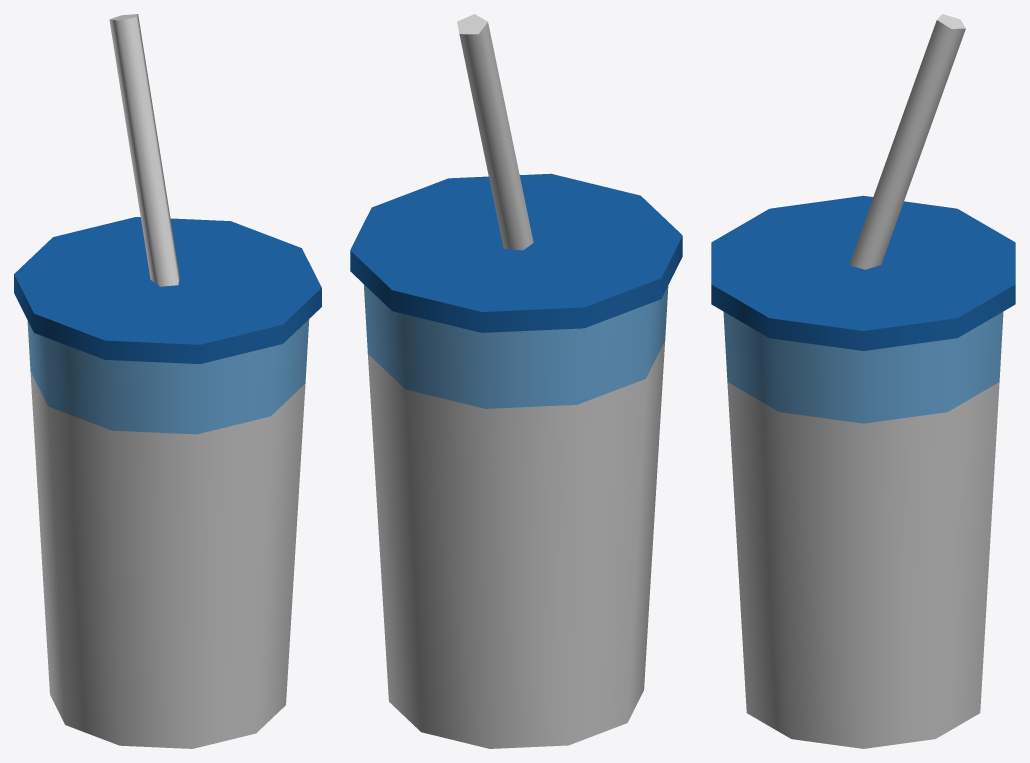
File: watercup.FBX
3 renders of one model, left to right at view 1: azimuth 30°, elevation 25°; view 2: azimuth 150°, elevation 25°; view 3: azimuth 270°, elevation 25°, orthographic. The views are drawn at different scales.
Visible parts, largest first — view 1: Cylinder002; view 2: Cylinder002; view 3: Cylinder002.
Boxes of the visible parts, <box> form: Cylinder002: <box>14,14,321,748</box>; Cylinder002: <box>350,14,682,748</box>; Cylinder002: <box>711,14,1015,748</box>.
Size of the model in its own units: 26.35 by 61.65 by 25.06.
